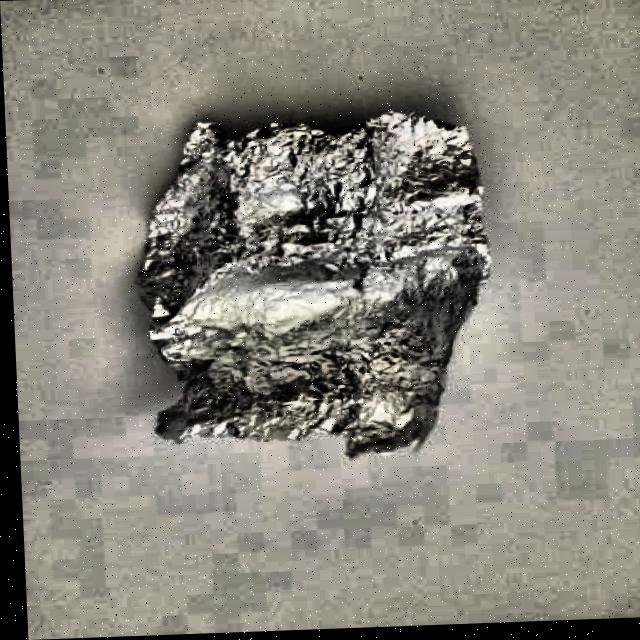metal: (125, 106, 500, 464)
